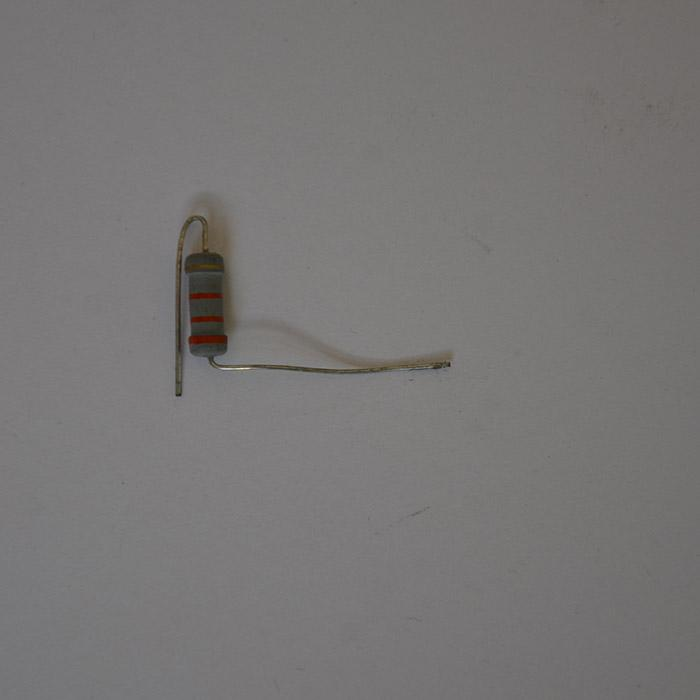resistor: (184, 251, 229, 357)
